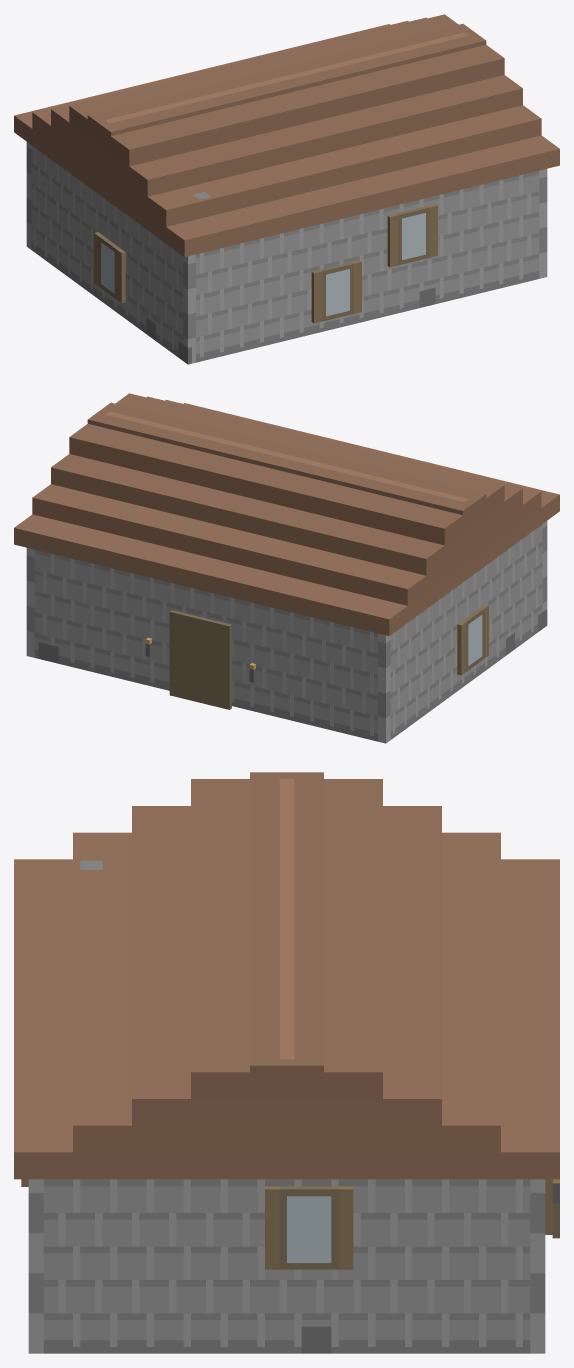
File: vidrieria_01.glb
The picture shows the model from 3 angles, top to bottom: view 1: azimuth 30°, elevation 25°; view 2: azimuth 150°, elevation 25°; view 3: azimuth 270°, elevation 25°; orthographic projection. The views are drawn at different scales.
Visible parts, largest first — view 1: vidrieria_01; view 2: vidrieria_01; view 3: vidrieria_01.
Boxes of the visible parts, x1=… form: vidrieria_01: x1=14, y1=14, x2=559, y2=364; vidrieria_01: x1=14, y1=393, x2=559, y2=743; vidrieria_01: x1=14, y1=772, x2=559, y2=1353.
Bounding box in the file's own units: 9.4 × 4.4 × 7.4.
